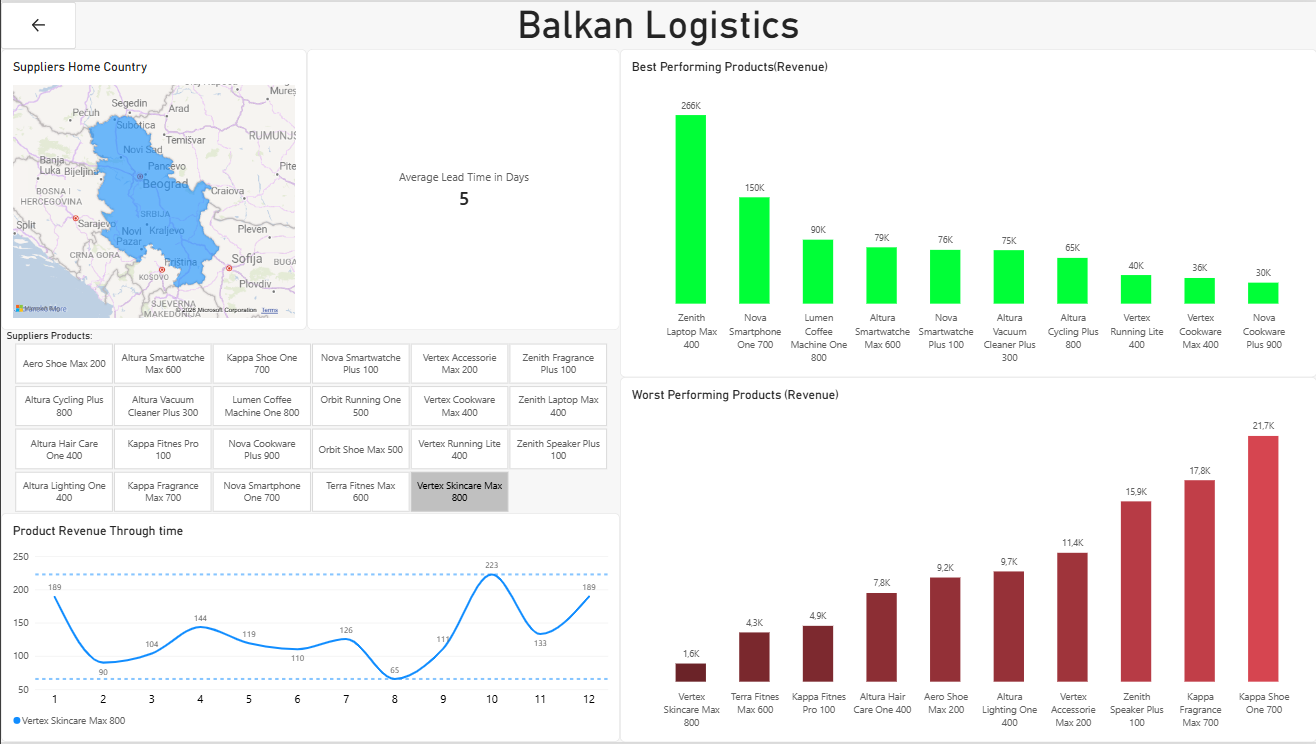

What the dashboard file says about the page in this screenshot:
{"tool":"powerbi","page":{"name":"Supplier Drill Down","canvas":[1920,1080],"ordinal":2},"visuals":[{"type":"cardVisual","fields":{"Data":["Min(Suppliers.Supplier_Name)"]},"box":[630.3,0,658,68.6],"z":0},{"type":"actionButton","box":[0,0,109.4,68.6],"z":1000},{"type":"filledMap","title":"Suppliers Home Country","fields":{"Category":["Suppliers.Country"],"Series":["Suppliers.Supplier_Name"]},"box":[0,68.6,446.4,410],"z":2000},{"type":"columnChart","title":"Best Performing Products(Revenue)","fields":{"Category":["Products.Product_Name"],"Y":["_Measures (2).Revenue"]},"box":[903.1,68.6,1016.9,478.5],"z":3000},{"type":"columnChart","title":"Worst Performing Products (Revenue)","fields":{"Category":["Products.Product_Name"],"Y":["_Measures (2).Revenue"]},"box":[903.1,547.1,1016.9,532.5],"z":5000},{"type":"lineChart","title":"Product Revenue Through time","fields":{"Category":["Calendar.Month"],"Series":["Products.Product_Name"],"Y":["_Measures (2).Revenue"]},"box":[0,745.5,903.1,334.1],"z":6000},{"type":"slicer","fields":{"Values":["Products.Product_Name"]},"box":[0,478.5,903.1,267],"z":7000},{"type":"cardVisual","fields":{"Data":["Median(Suppliers.Lead_Time_Days)"]},"box":[446.7,68.3,456.7,410],"z":8000}]}

Visuals, with their boxes on the page's 1920x1080 design canvas (x1, y1, x2, y2). These are canvas units, not pixel positions in the 1316x744 screenshot, which may show the page scaled, cropped or inside an application window:
cardVisual - Min(Suppliers.Supplier_Name): bbox=(630, 0, 1288, 69)
actionButton: bbox=(0, 0, 109, 69)
"Suppliers Home Country" filledMap: bbox=(0, 69, 446, 479)
"Best Performing Products(Revenue)" columnChart: bbox=(903, 69, 1920, 547)
"Worst Performing Products (Revenue)" columnChart: bbox=(903, 547, 1920, 1080)
"Product Revenue Through time" lineChart: bbox=(0, 746, 903, 1080)
slicer - Products.Product_Name: bbox=(0, 478, 903, 746)
cardVisual - Median(Suppliers.Lead_Time_Days): bbox=(447, 68, 903, 478)
